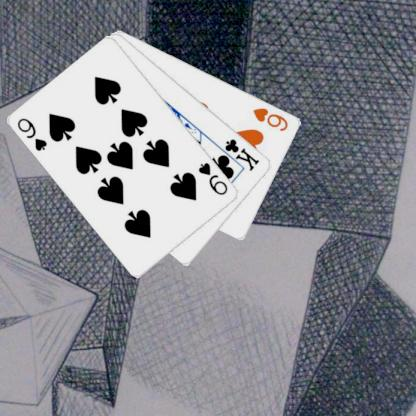6H: (250, 105, 290, 132)
9S: (15, 115, 49, 152), (196, 160, 230, 196)
KC: (214, 136, 260, 173)
